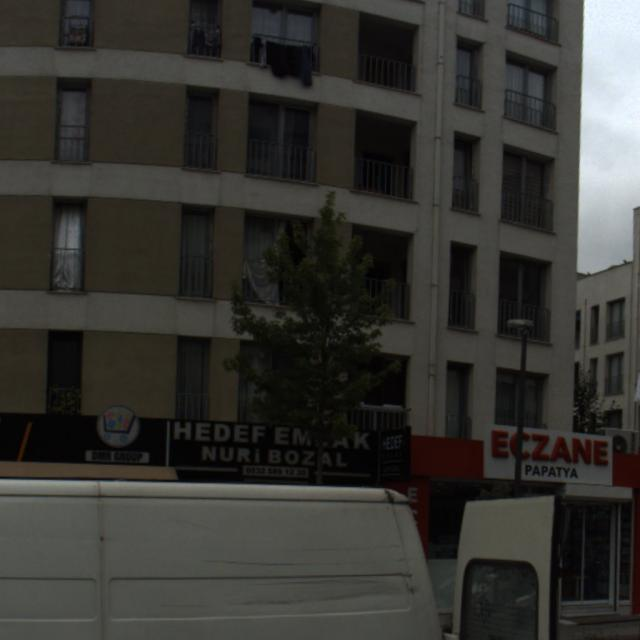SignStore: (167, 419, 412, 488), (412, 424, 634, 489), (5, 407, 167, 467)
